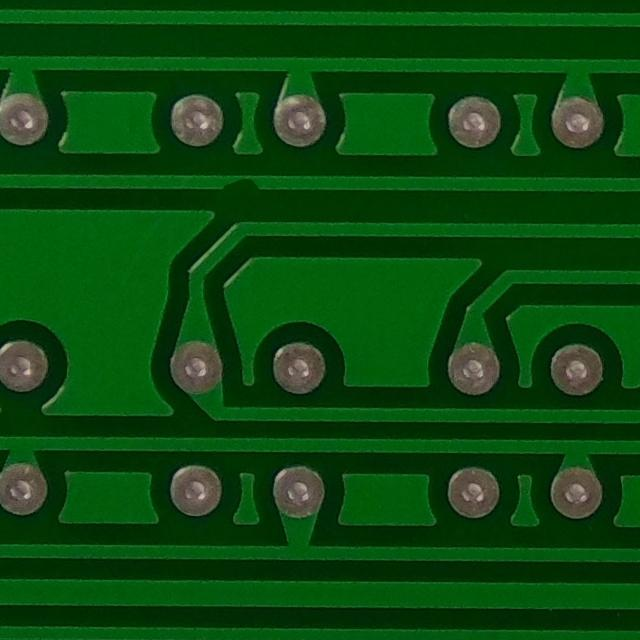mouse_bite: (209, 163, 273, 210)
